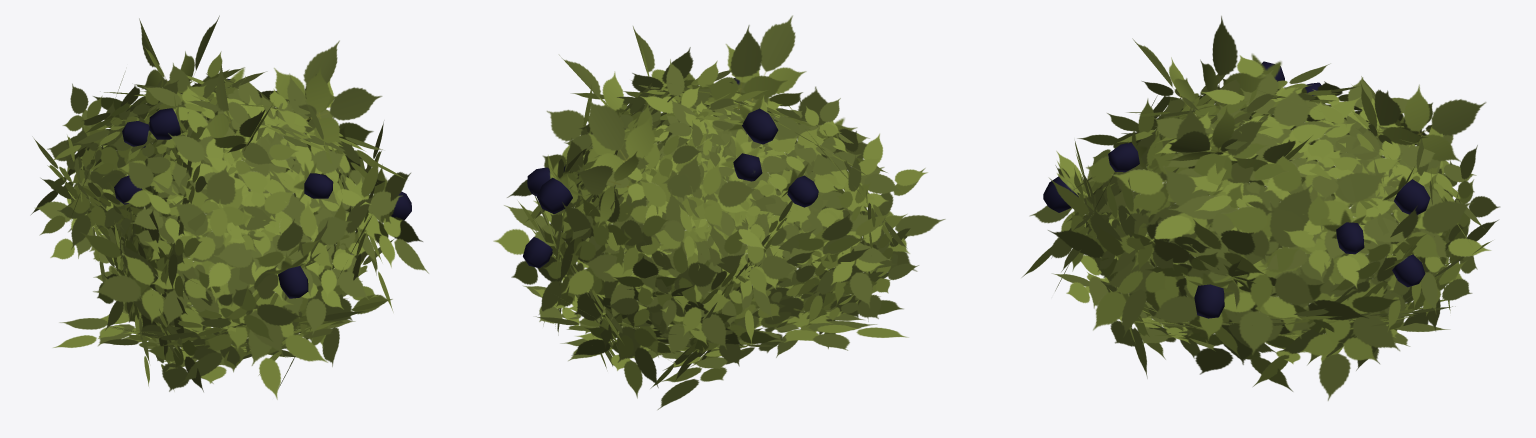
The model's file is Blackberry_Bush_3b.glb.
The picture shows the model from 3 angles, left to right: view 1: azimuth 30°, elevation 25°; view 2: azimuth 150°, elevation 25°; view 3: azimuth 270°, elevation 25°; orthographic projection. The views are drawn at different scales.
Visible parts, largest first — view 1: Blackberry_Bush_3b; view 2: Blackberry_Bush_3b; view 3: Blackberry_Bush_3b.
Boxes of the visible parts, x1=… form: Blackberry_Bush_3b: x1=31, y1=15, x2=428, y2=399; Blackberry_Bush_3b: x1=493, y1=15, x2=945, y2=409; Blackberry_Bush_3b: x1=1022, y1=16, x2=1499, y2=400.
Size of the model in its own units: 1.37 by 1.11 by 1.46.
Materials: 1 (1 with a texture image).
